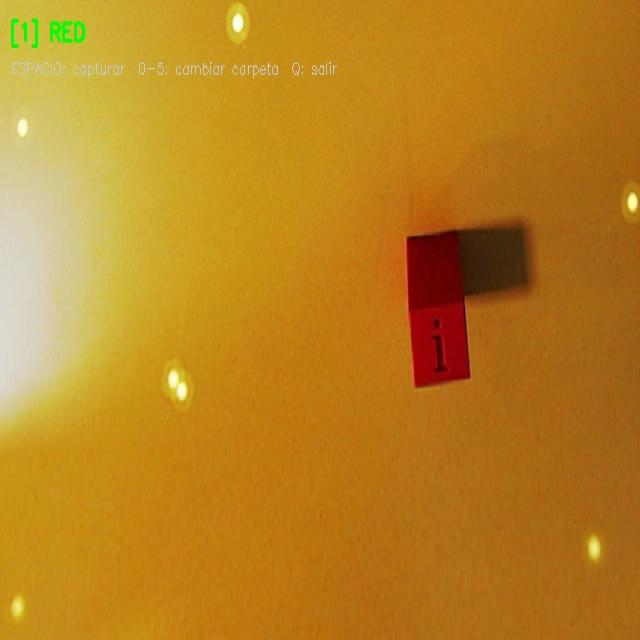red: (407, 233, 469, 385)
